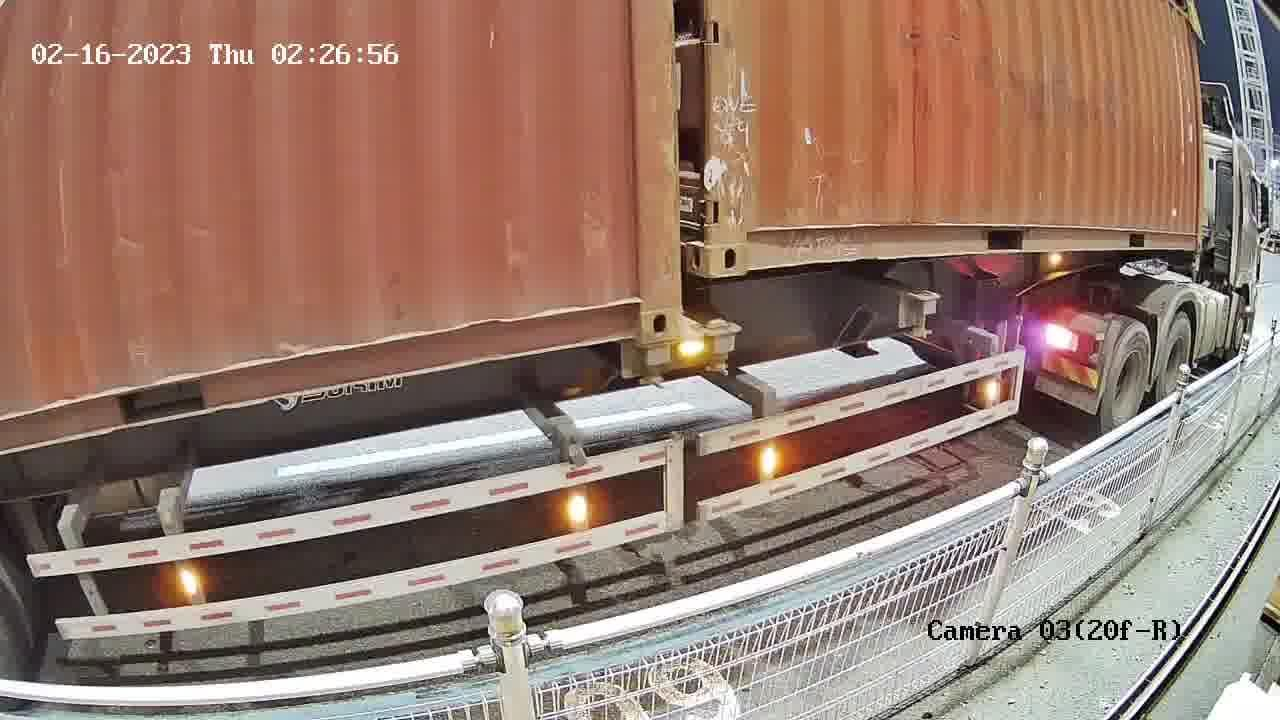Cone: (631, 340, 678, 394), (698, 321, 737, 381)
Hole_L: (709, 195, 783, 276)
Hole_R: (580, 267, 681, 343), (683, 202, 710, 274)
Tire: (1101, 325, 1153, 431), (1160, 312, 1192, 395)
